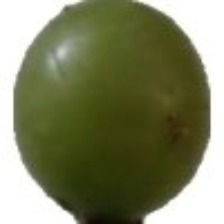grapes: (13, 44, 182, 198)
